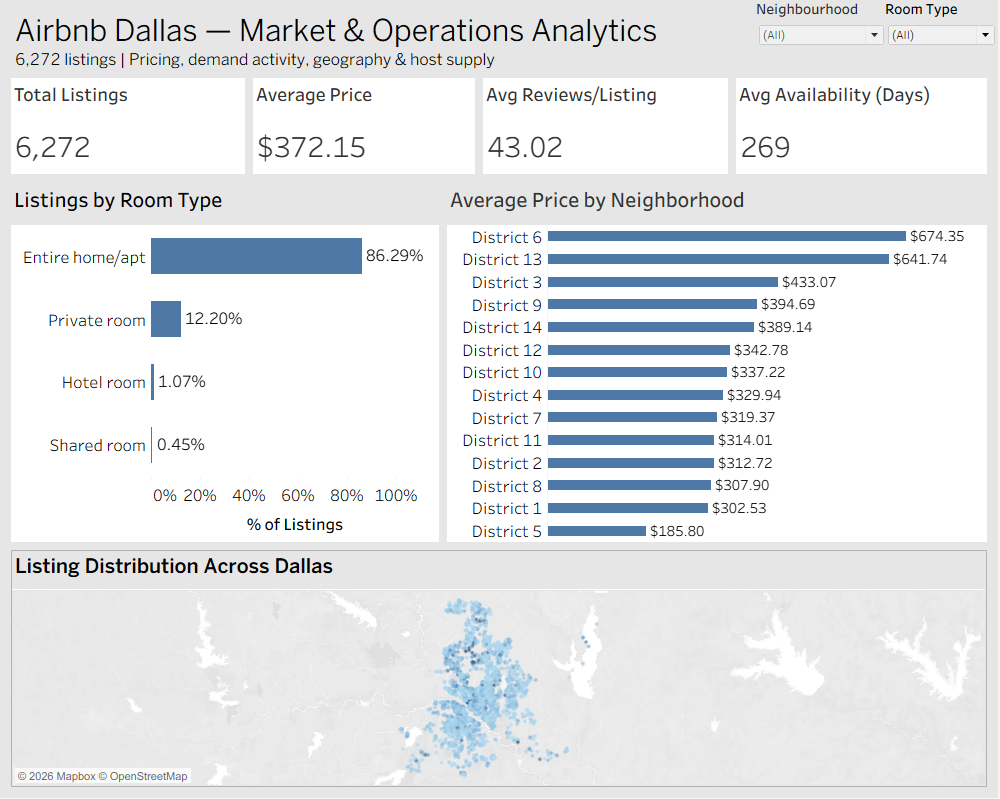

Layout of this report page (visuals, bound fields, positions):
{"tool":"tableau","page":{"name":"Executive Overview","canvas":[1000,800],"ordinal":0},"visuals":[{"type":"filter","title":"Average Price by Neighborhood","param":"[federated.1g8rsme0tv0b6e1f2bbie0vzgvow].[none:neighbourhood:nk]","box":[757,0,131,68]},{"type":"filter","title":"Listings by Room Type","param":"[federated.1g8rsme0tv0b6e1f2bbie0vzgvow].[none:room_type:nk]","box":[886,0,113,59]},{"type":"title","box":[8,8,984,67]},{"type":"worksheet","title":"Total Listings","mark":"Text","box":[8,75,242,104]},{"type":"worksheet","title":"Average Price ","mark":"Automatic","box":[250,75,230,104]},{"type":"worksheet","title":"Average Reviews","mark":"Automatic","box":[480,75,253,104]},{"type":"worksheet","title":"Average Availability","mark":"Automatic","box":[733,75,259,104]},{"type":"worksheet","title":"Listings by Room Type","mark":"Automatic","rows":["room_type"],"cols":["id"],"box":[8,179,435.9,368]},{"type":"worksheet","title":"Average Price by Neighborhood","mark":"Automatic","rows":["neighbourhood"],"cols":["price"],"box":[443.9,179,548.1,368]},{"type":"worksheet","title":"Listing Map","mark":"Automatic","rows":["latitude"],"cols":["longitude"],"box":[8,547,984,245]}]}

Visuals, with their boxes in screenshot pixels (x1, y1, x2, y2), scaled from the page's 1000x800 canvas onto the 1000x799 screenshot:
"Average Price by Neighborhood" filter: [757,0,888,68]
"Listings by Room Type" filter: [886,0,999,59]
title: [8,8,992,75]
"Total Listings" worksheet (Text marks): [8,75,250,179]
"Average Price " worksheet: [250,75,480,179]
"Average Reviews" worksheet: [480,75,733,179]
"Average Availability" worksheet: [733,75,992,179]
"Listings by Room Type" worksheet: [8,179,444,546]
"Average Price by Neighborhood" worksheet: [444,179,992,546]
"Listing Map" worksheet: [8,546,992,791]
